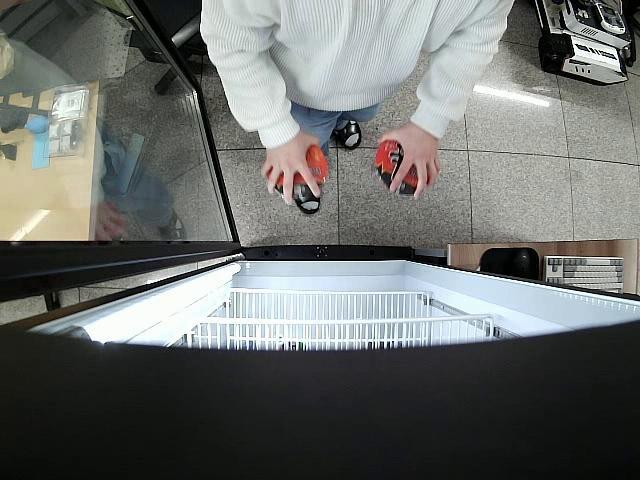01_ShinRamen_L: (374, 134, 430, 198), (267, 142, 329, 198)
